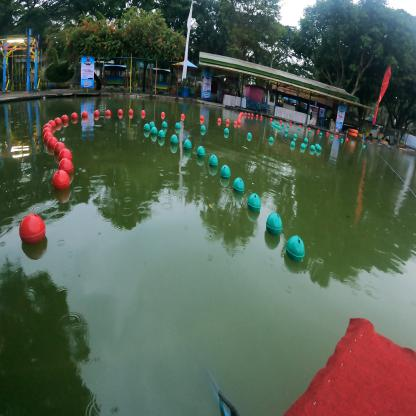green_buoy: (285, 234, 305, 262), (265, 212, 283, 236), (247, 192, 262, 212), (232, 176, 245, 194), (219, 163, 231, 178), (208, 154, 219, 165), (196, 145, 206, 157), (184, 139, 192, 148), (150, 126, 158, 134), (170, 134, 178, 142), (144, 123, 151, 130), (158, 130, 165, 137), (162, 121, 168, 127), (175, 122, 181, 128), (290, 140, 296, 146), (150, 121, 155, 127), (201, 125, 206, 131), (224, 128, 230, 133), (247, 132, 252, 137), (269, 136, 274, 141)
red_buoy: (18, 212, 47, 242), (52, 168, 70, 188), (58, 156, 74, 172), (59, 147, 72, 161), (47, 136, 59, 148), (54, 141, 66, 152), (43, 132, 55, 142), (42, 127, 52, 136), (54, 117, 62, 125), (48, 120, 56, 128), (44, 123, 52, 131), (81, 110, 88, 116), (71, 112, 78, 118), (62, 114, 68, 120), (140, 109, 146, 114), (94, 110, 100, 115), (119, 109, 124, 114), (106, 109, 111, 114), (161, 111, 165, 116), (182, 113, 186, 118), (129, 109, 133, 113)
